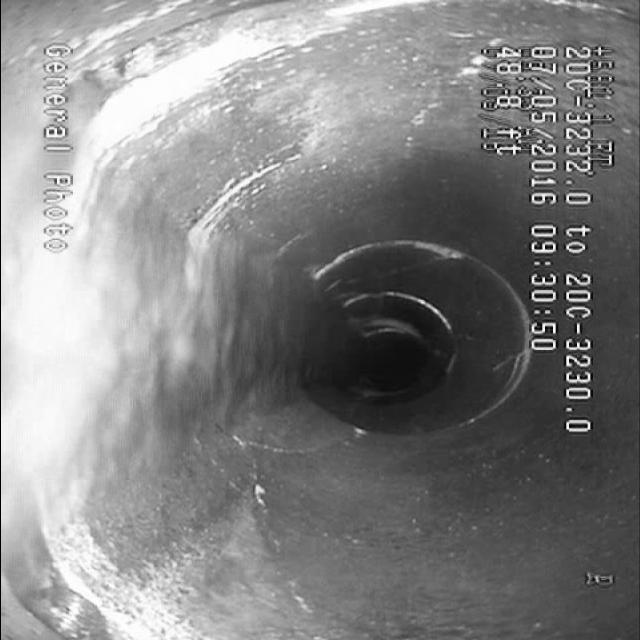Crack: (222, 429, 332, 612)
